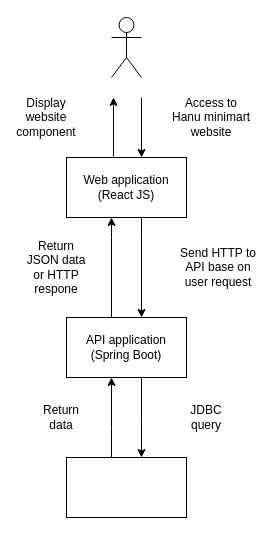
Some shapes in this 279 by 535 pixel diagram are drawn without their labels. Each missing label, with the centre of its shape:
"Database (MySQL)" belongs at (126,487).
"User" belongs at (126,47).
